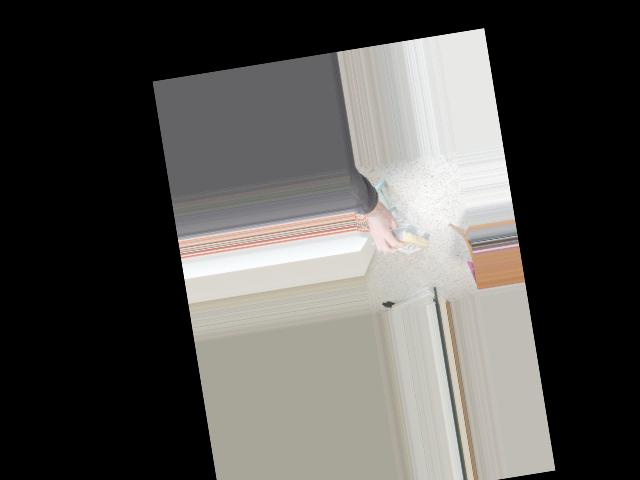cheese: (376, 220, 434, 261)
